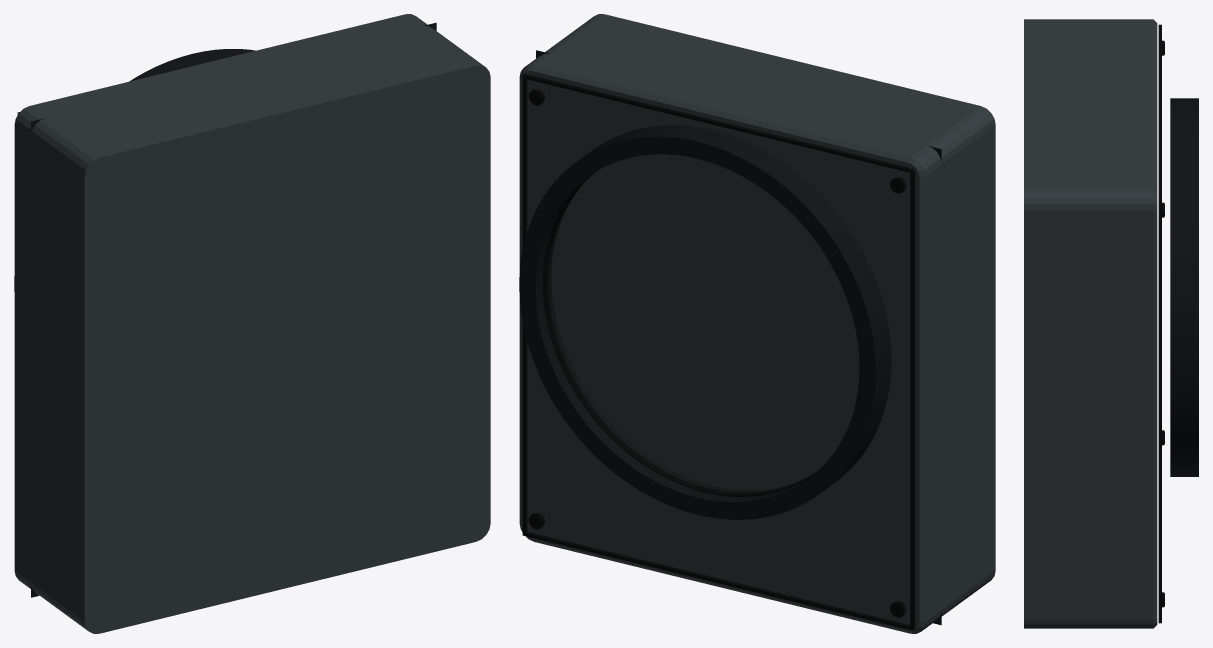
The model's file is MFDStudio.obj.
3 renders of one model, left to right at view 1: azimuth 30°, elevation 25°; view 2: azimuth 150°, elevation 25°; view 3: azimuth 270°, elevation 25°, orthographic. The views are drawn at different scales.
Visible parts, largest first — view 1: MFDStudioBody; view 2: MFDStudioBody, MFDStudioScrews; view 3: MFDStudioBody.
Part boxes in pixels (x1=…): MFDStudioBody: x1=14, y1=14, x2=490, y2=633; MFDStudioBody: x1=519, y1=14, x2=995, y2=633; MFDStudioScrews: x1=528, y1=89, x2=906, y2=617; MFDStudioBody: x1=1024, y1=19, x2=1198, y2=628.
Bounding box in the file's own units: 0.165 × 0.185 × 0.067.
9 materials, 1 textured.
